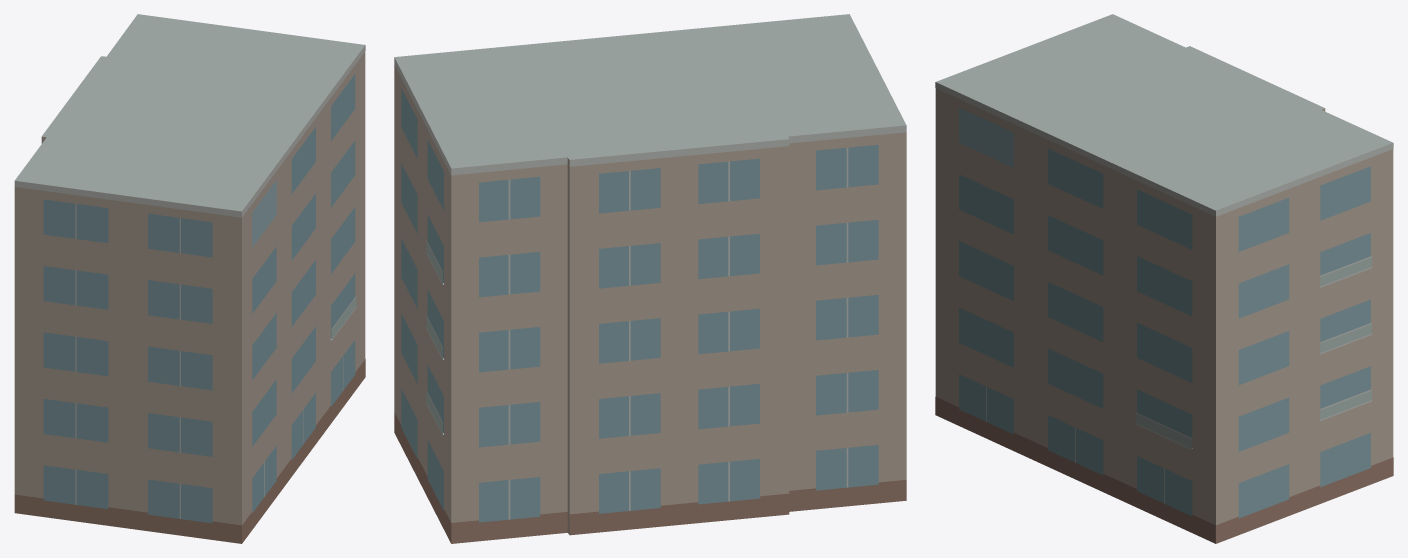
File: survey-upis-33015297.glb
3 views of the same model, side by side, from view 1: azimuth 30°, elevation 25°; view 2: azimuth 150°, elevation 25°; view 3: azimuth 270°, elevation 25° (orthographic). The views are drawn at different scales.
Parts seen in each view (by area): view 1: survey-upis-33015297.tmp; view 2: survey-upis-33015297.tmp; view 3: survey-upis-33015297.tmp.
Part boxes in pixels (x1=…): survey-upis-33015297.tmp: x1=14, y1=14, x2=365, y2=543; survey-upis-33015297.tmp: x1=394, y1=14, x2=906, y2=543; survey-upis-33015297.tmp: x1=935, y1=14, x2=1393, y2=543.
Bounding box in the file's own units: 16.85 × 13.3 × 16.58.
